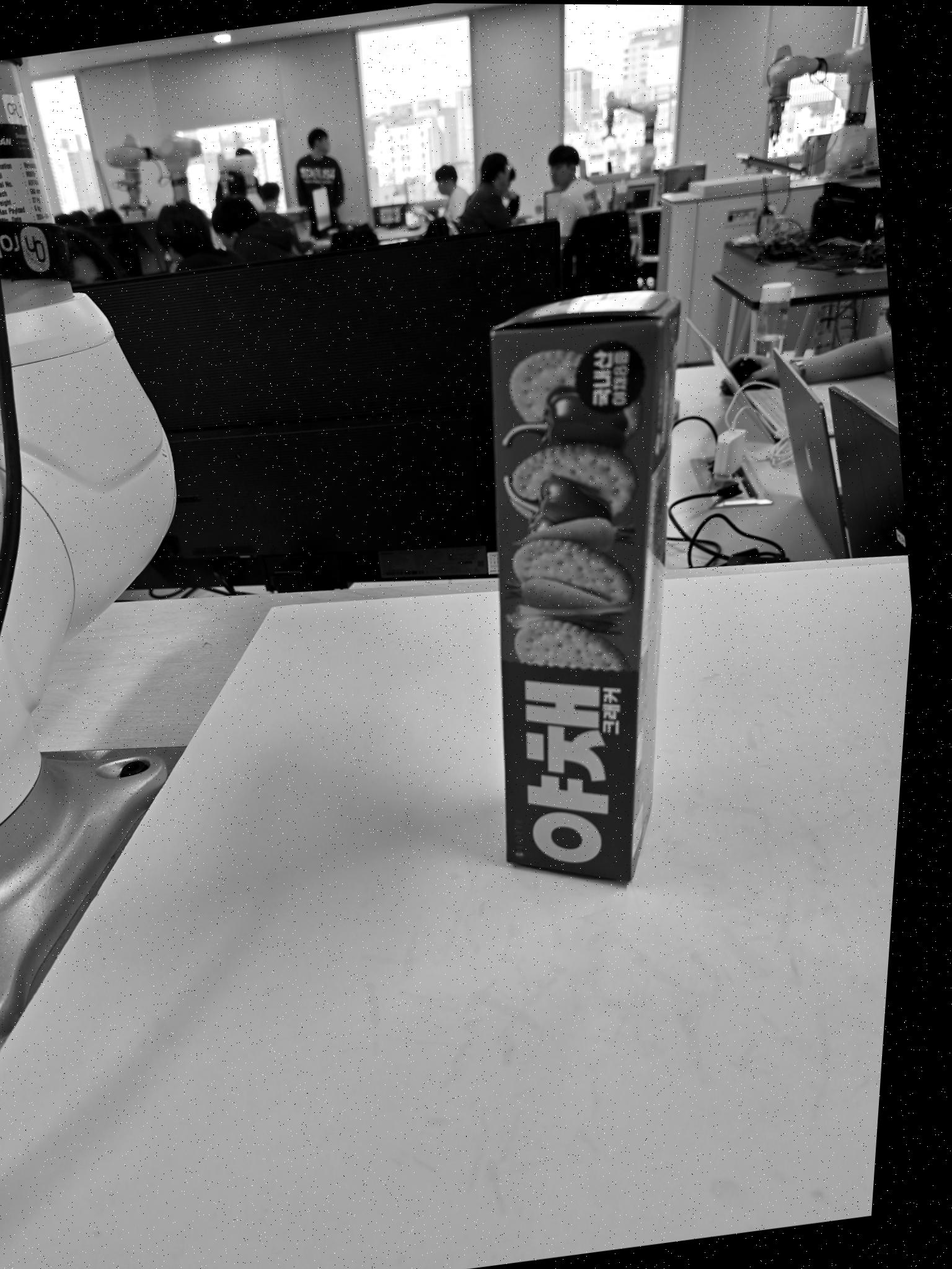cracker_vege: (491, 293, 678, 878)
